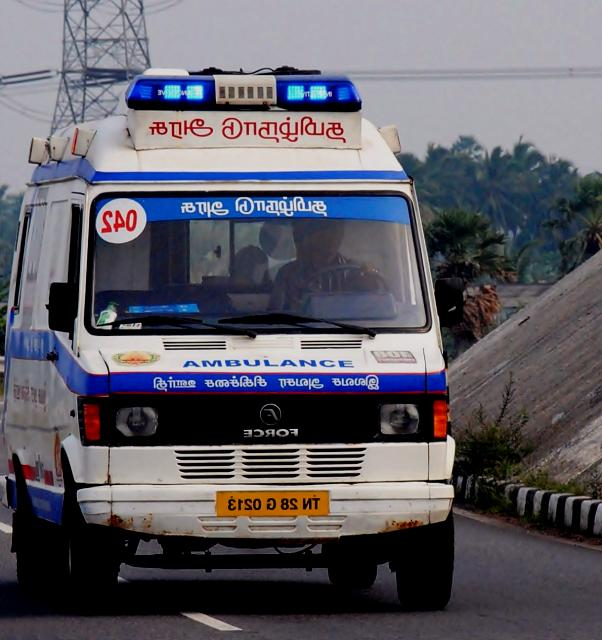ambulance: (0, 30, 464, 625)
